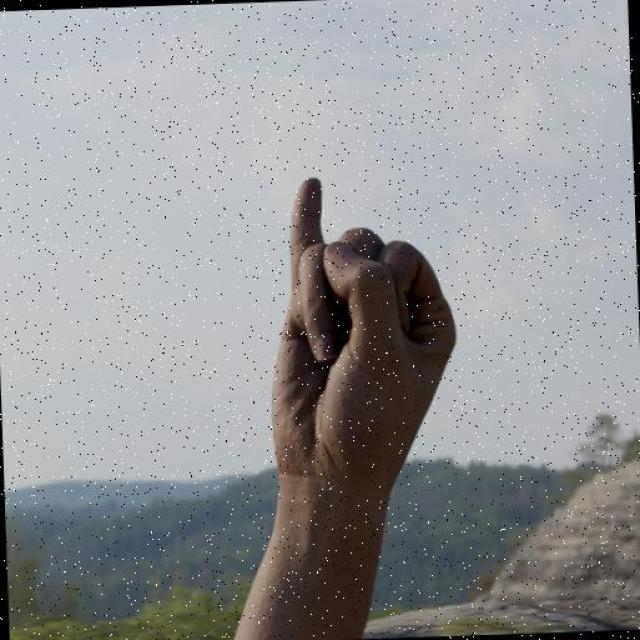I: (260, 170, 467, 498)
